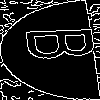B: (25, 25, 100, 62)
